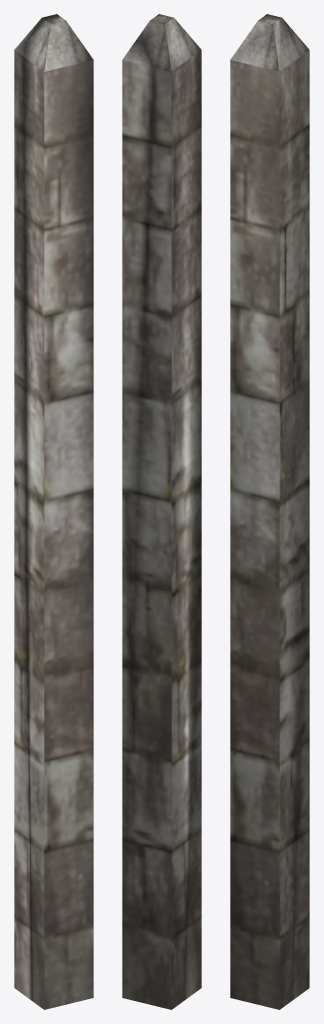
The model's file is support3.glb.
3 renders of one model, left to right at view 1: azimuth 30°, elevation 25°; view 2: azimuth 150°, elevation 25°; view 3: azimuth 330°, elevation 25°, orthographic.
Parts seen in each view (by area): view 1: support3; view 2: support3; view 3: support3.
Part boxes in pixels (box(x1,y1,x2,y2)): support3: box(14, 14, 93, 1009); support3: box(122, 14, 201, 1009); support3: box(230, 14, 309, 1009).
Size of the model in its own units: 0.8608 by 16.2 by 0.9083.
1 material, 1 textured.
